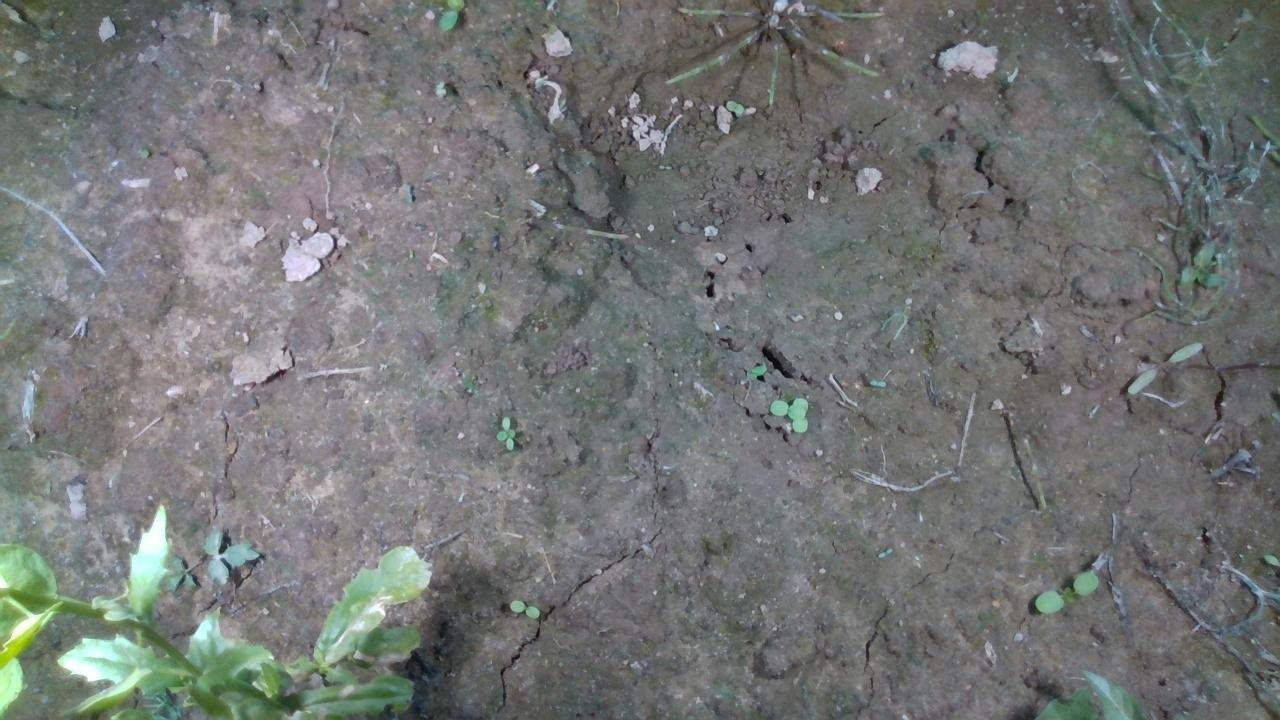weed: (1125, 340, 1203, 394), (1030, 571, 1099, 616), (489, 410, 528, 451), (505, 598, 540, 619)
